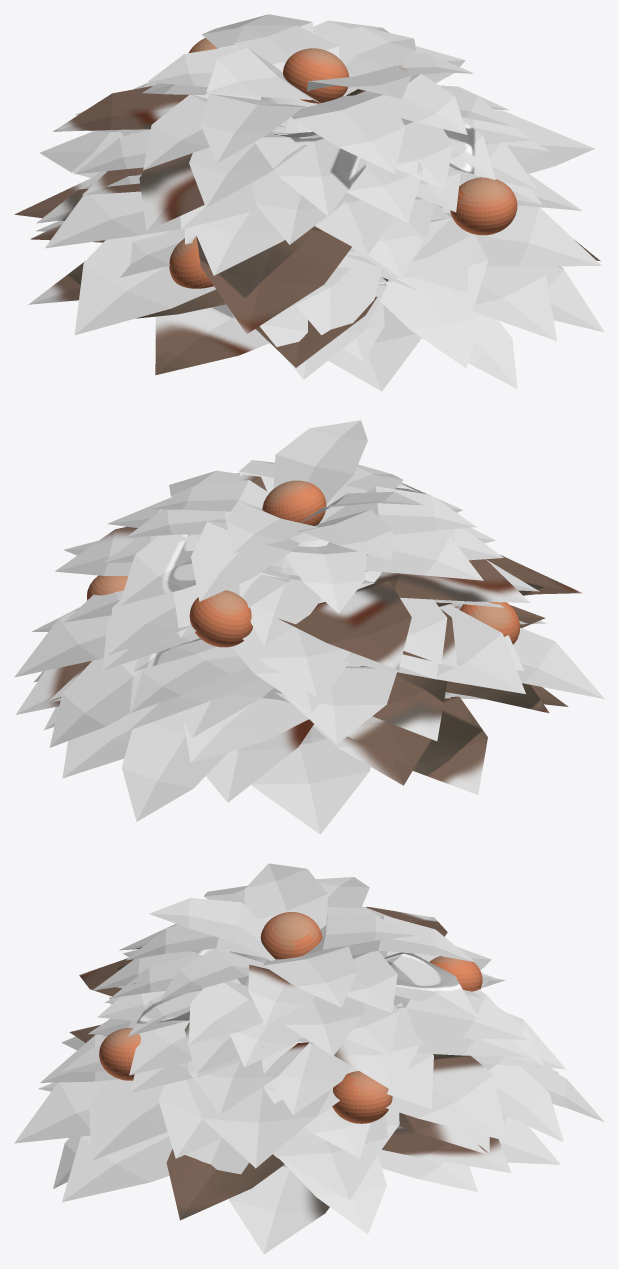
File: bush.fbx
3 views of the same model, one above another, from view 1: azimuth 30°, elevation 25°; view 2: azimuth 150°, elevation 25°; view 3: azimuth 270°, elevation 25° (orthographic). The views are drawn at different scales.
Parts seen in each view (by area): view 1: Plane.030, Sphere; view 2: Plane.030, Sphere; view 3: Plane.030, Sphere.
Boxes of the visible parts, box(x1,y1,x2,y2) form: Plane.030: box(14, 14, 604, 391); Sphere: box(169, 38, 517, 288); Plane.030: box(14, 420, 604, 834); Sphere: box(87, 480, 520, 647); Plane.030: box(14, 863, 604, 1254); Sphere: box(99, 912, 482, 1123).
Bounding box in the file's own units: 497 × 237 × 510.
